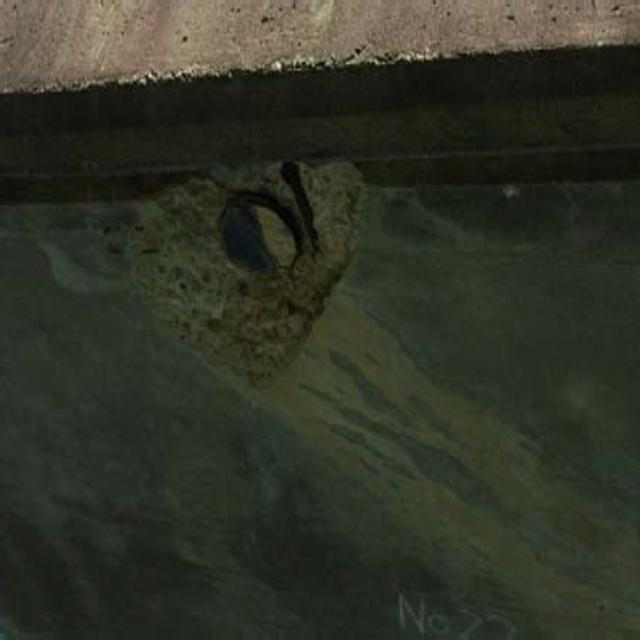spalling: (24, 154, 403, 402)
